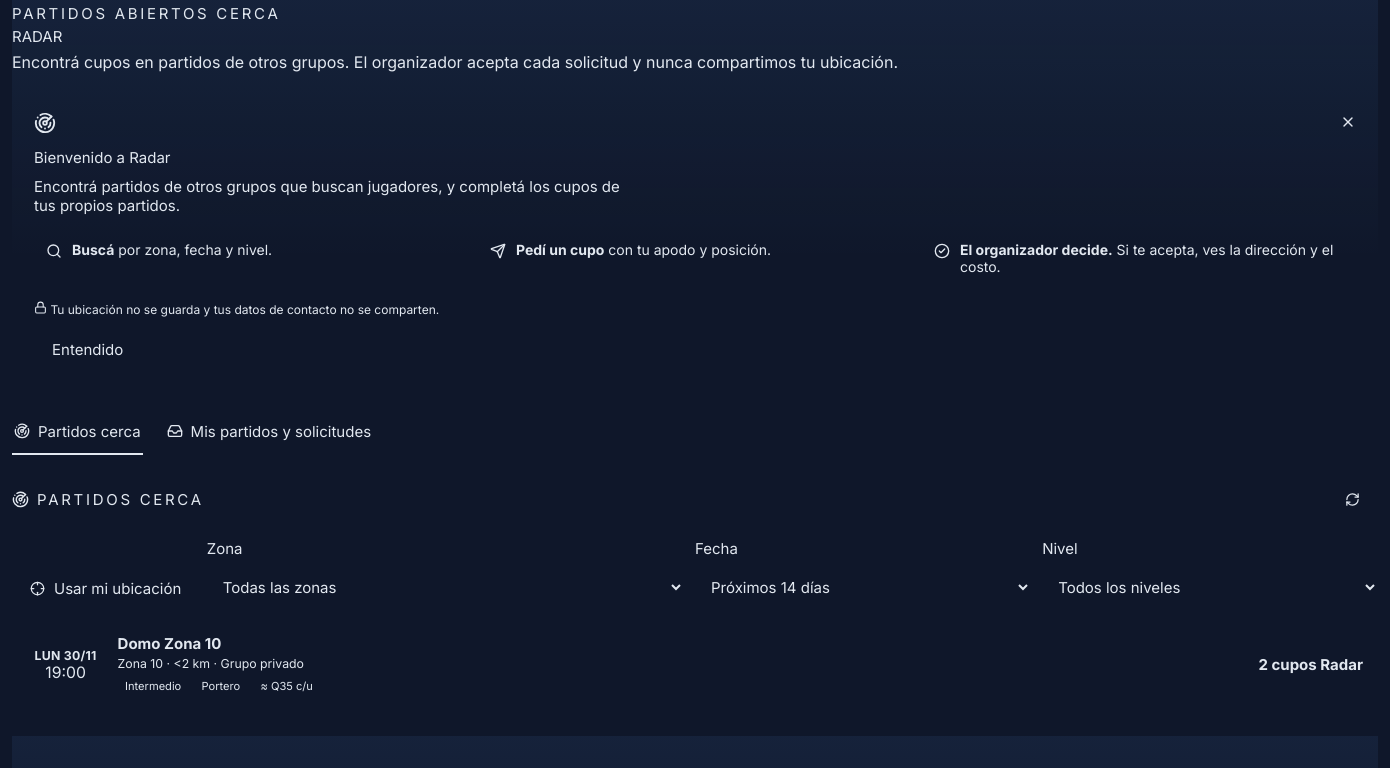
Radar page › asks for location only on tap and sends rounded coordinates
The width and height of the screenshot is (1390, 768).
Expected: the text "Domo Zona 10" is shown, [118,634,221,653]
Click the button "Usar mi ubicación" at (106, 588), box [12,566,199,610]
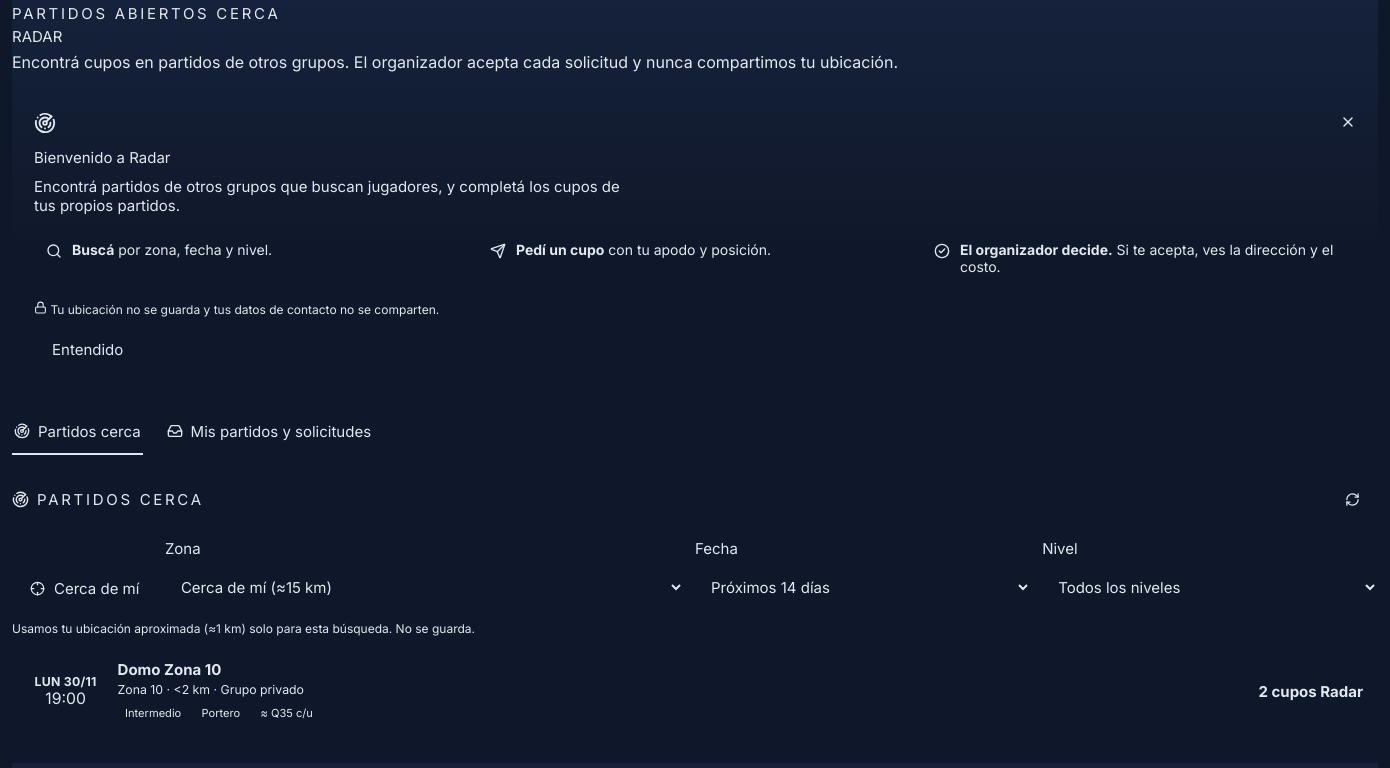
Expected: the text "No se guarda" is shown, [12,621,475,636]
